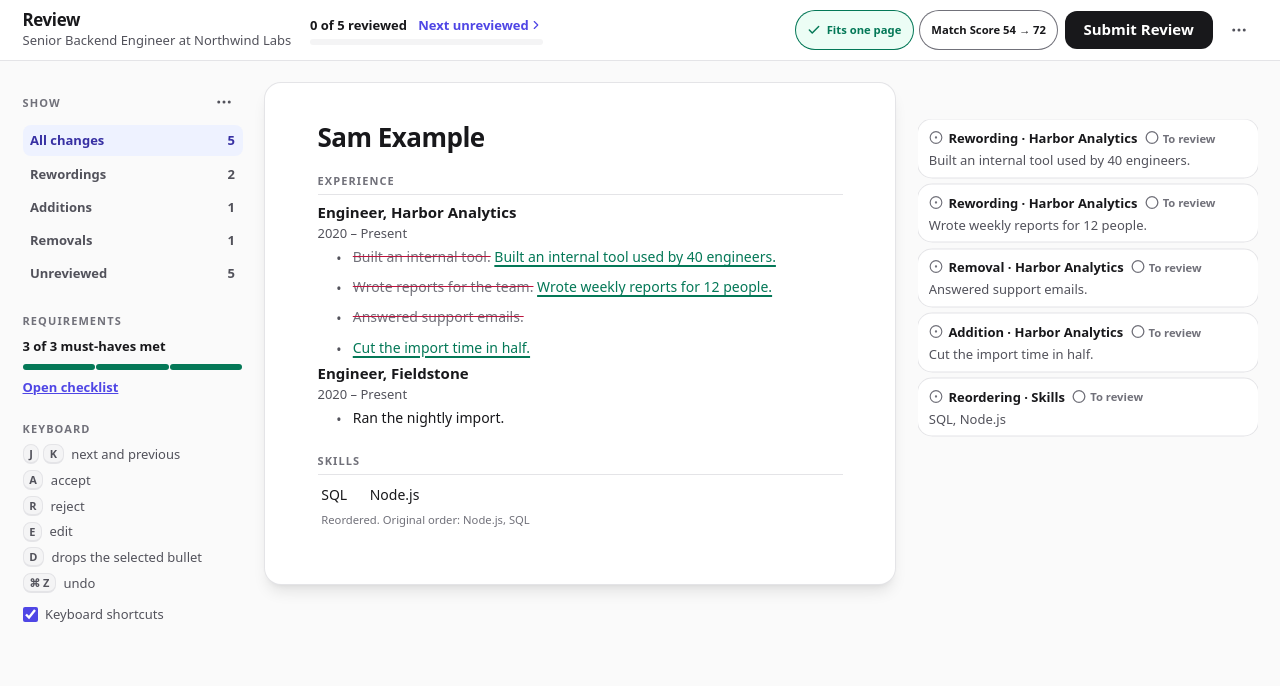
Review screen: top bar and page together › on INVALID_REVIEW at submit, focuses the named Change's card and shows the message in the alert
The image size is (1280, 686).
Click the button "Submit Review" at [1139, 30], box [1065,11,1212,49]
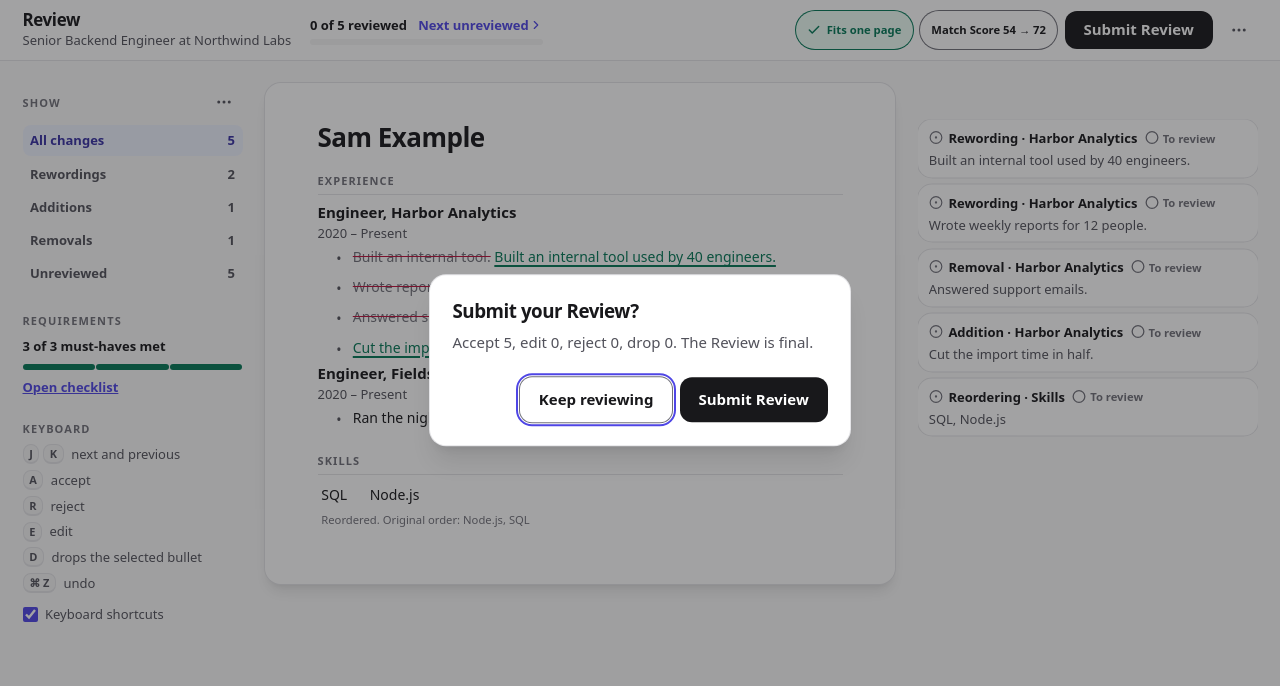
Click the button "Submit Review" at [754, 400], box [680,377,828,422]
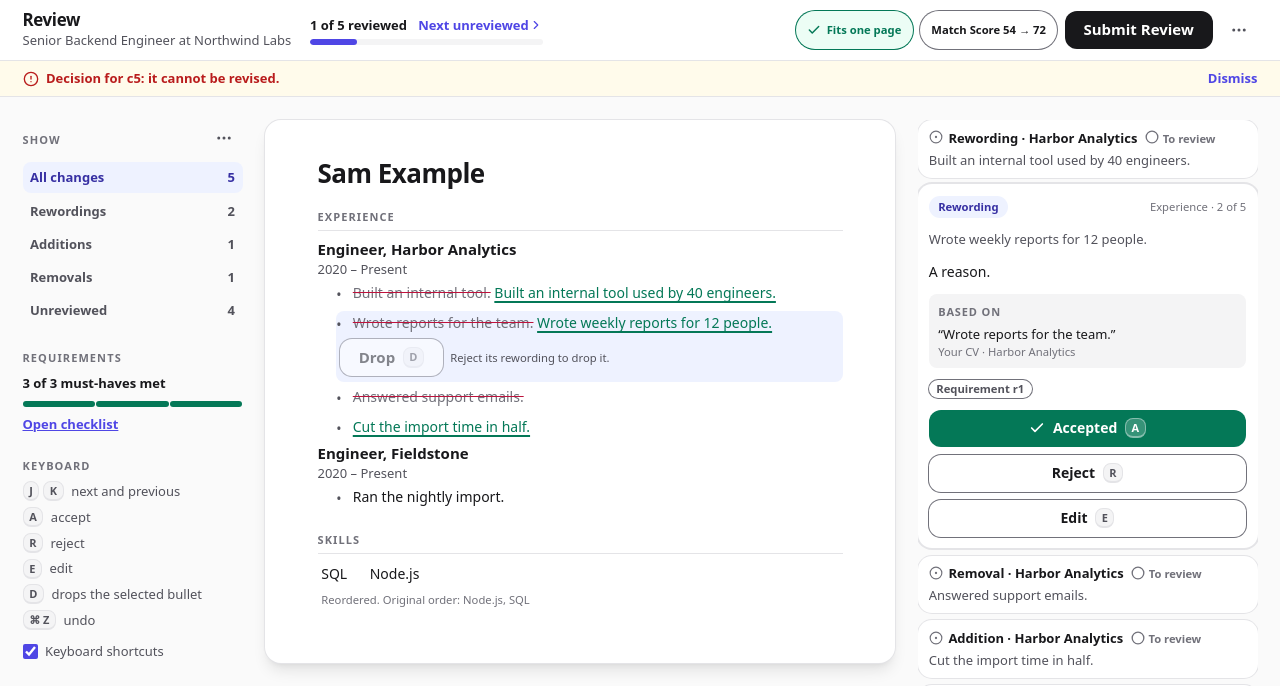
Expected: the message "Decision for c5: it cannot be revised. Dismiss" is shown, [0,60,1279,96]
